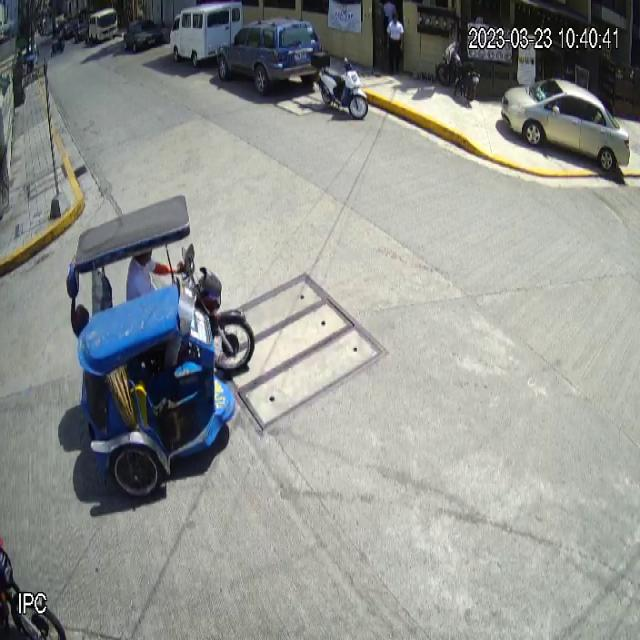Car: (501, 75, 632, 172), (216, 16, 323, 96)
Motorcycle: (311, 48, 369, 120)
Tricycle: (66, 194, 256, 504)
Van: (169, 0, 242, 69)
